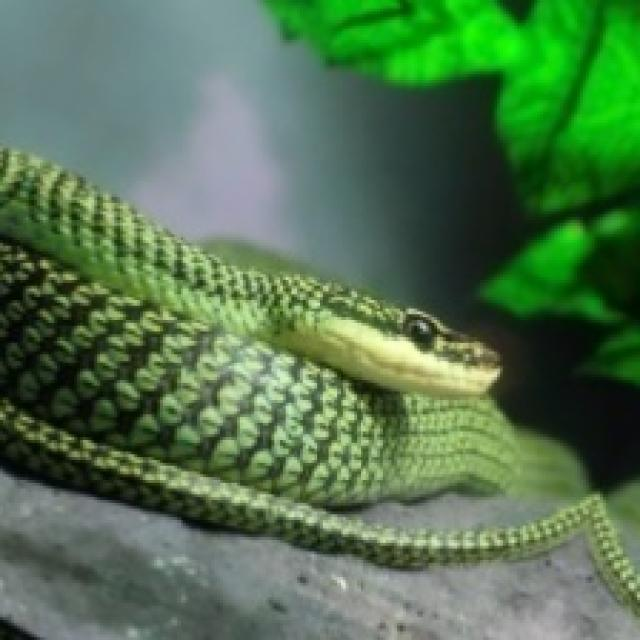paradise tree snake: (0, 149, 637, 609)
